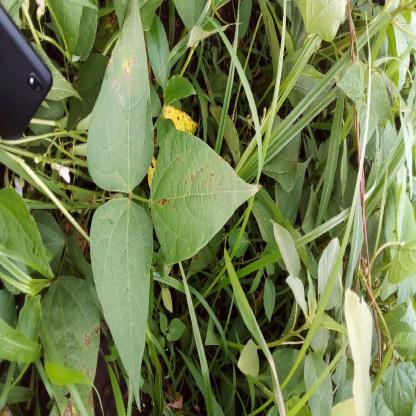Beans_Angular_LeafSpot: (152, 131, 259, 262), (88, 0, 154, 191), (33, 270, 104, 398)
